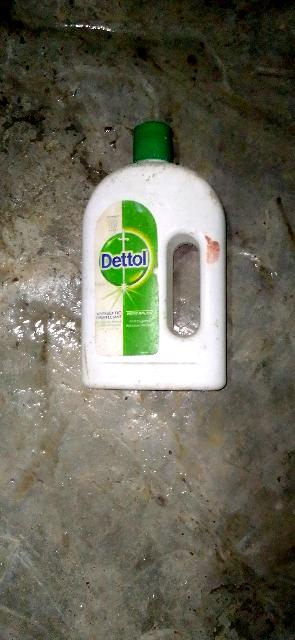hardplastic: (54, 132, 240, 414)
